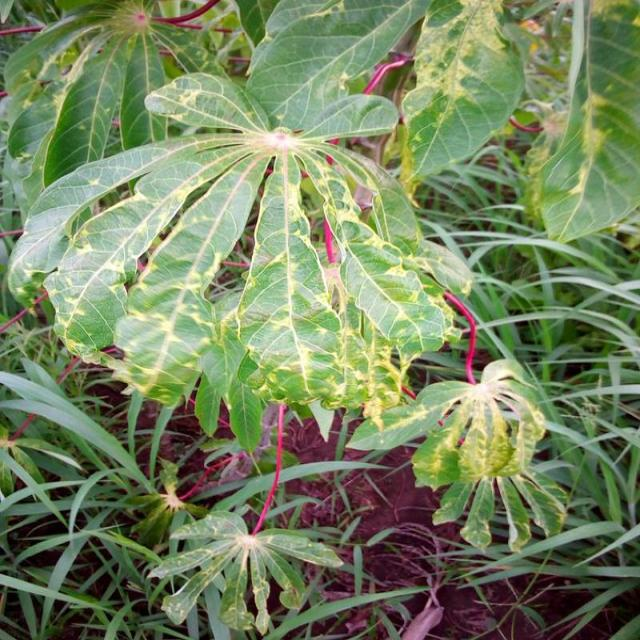Mosaico: (15, 136, 457, 393), (387, 345, 584, 479)
